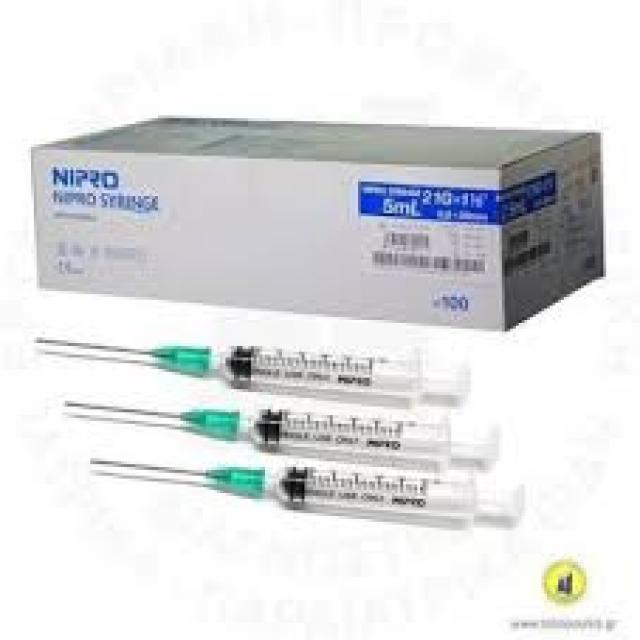syringe: (34, 310, 531, 541)
